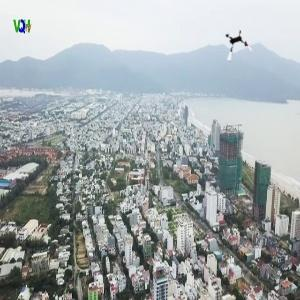drone: (218, 28, 255, 65)
